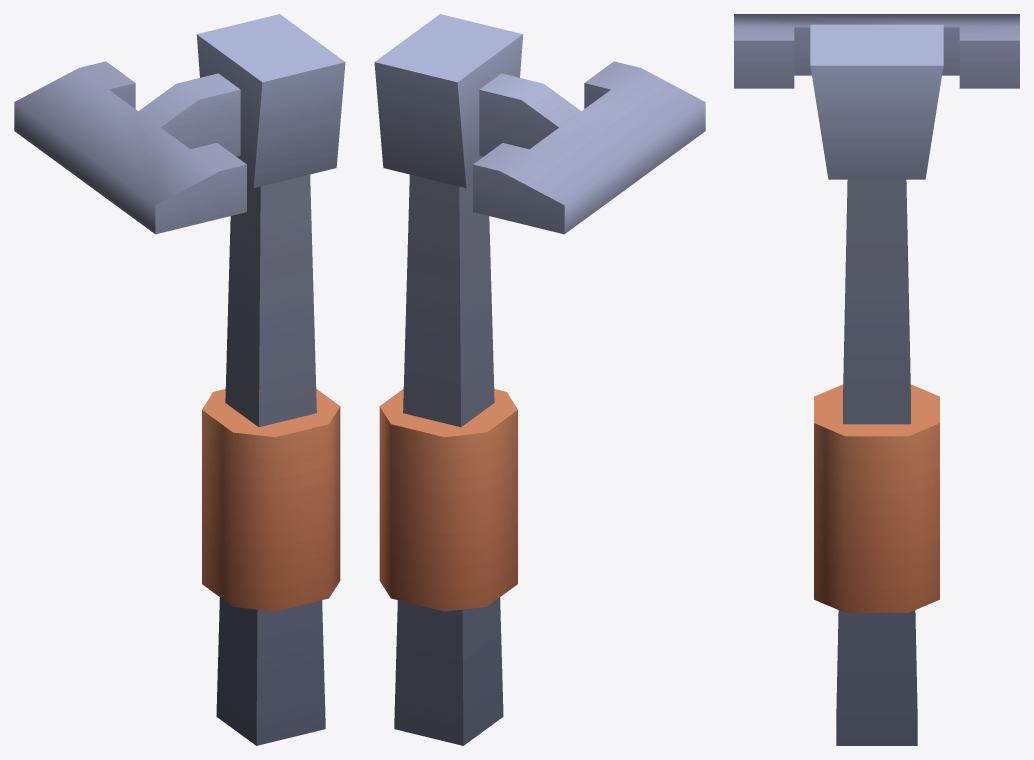
File: tool-hoe-upgraded.glb
3 renders of one model, left to right at view 1: azimuth 30°, elevation 25°; view 2: azimuth 150°, elevation 25°; view 3: azimuth 270°, elevation 25°, orthographic.
Visible parts, largest first — view 1: tool-hoe-upgraded; view 2: tool-hoe-upgraded; view 3: tool-hoe-upgraded.
Boxes of the visible parts, box(x1,y1,x2,y2) form: tool-hoe-upgraded: box(14, 14, 345, 745); tool-hoe-upgraded: box(374, 14, 705, 745); tool-hoe-upgraded: box(734, 14, 1019, 745).
Bounding box in the file's own units: 0.0893 × 0.24 × 0.0909.
Materials: 1 (1 with a texture image).
